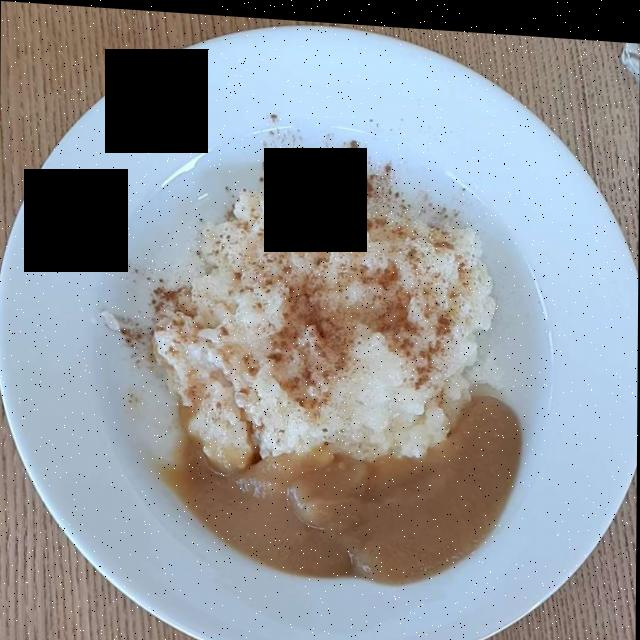applesauce-unsweetened-canned: (163, 396, 513, 573)
